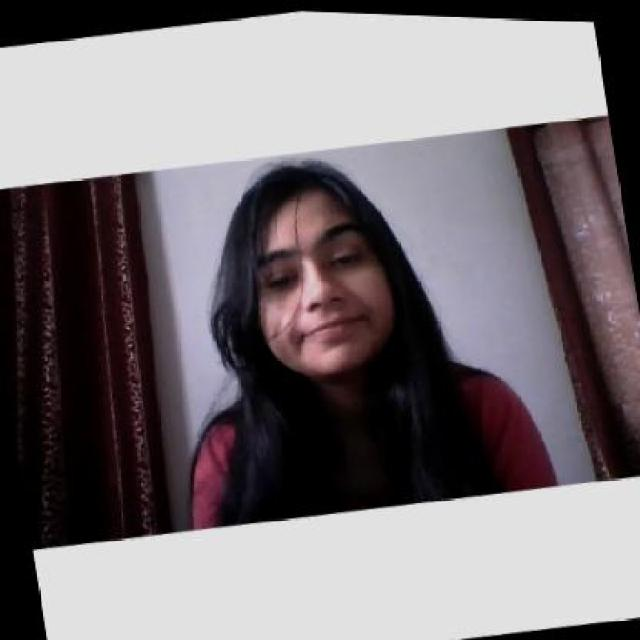attentif: (234, 152, 398, 380)
